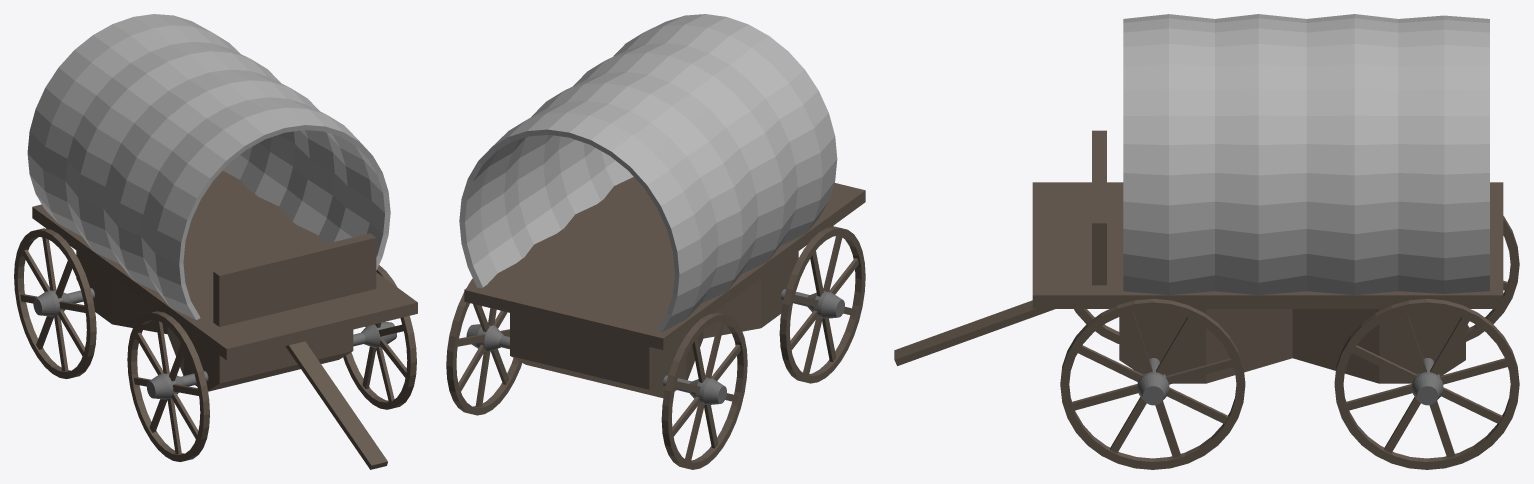
File: Wagon.fbx
The picture shows the model from 3 angles, left to right: view 1: azimuth 30°, elevation 25°; view 2: azimuth 150°, elevation 25°; view 3: azimuth 270°, elevation 25°; orthographic projection. The views are drawn at different scales.
Parts seen in each view (by area): view 1: Cylinder.004, Cube.005, Cube.006, Cube.007, Cylinder.009, Cylinder.008, Cylinder.005, Cube.008, Cylinder.007, Cylinder.010, Cylinder.006; view 2: Cylinder.004, Cube.005, Cube.007, Cylinder.008, Cylinder.009, Cylinder.012, Cylinder.007, Cylinder.010, Cylinder.011; view 3: Cylinder.004, Cube.007, Cube.005, Cylinder.012, Cylinder.005, Cube.008, Cube.006, Cylinder.009, Cylinder.006, Cylinder.011.
Part boxes in pixels (bbox=[...]): Cylinder.004: bbox=[27, 14, 390, 319]; Cube.005: bbox=[32, 170, 417, 360]; Cube.006: bbox=[213, 233, 376, 326]; Cube.007: bbox=[76, 250, 353, 391]; Cylinder.009: bbox=[14, 228, 96, 378]; Cylinder.008: bbox=[127, 311, 209, 461]; Cylinder.005: bbox=[343, 265, 416, 409]; Cube.008: bbox=[285, 341, 387, 469]; Cylinder.007: bbox=[146, 371, 208, 399]; Cylinder.010: bbox=[33, 288, 94, 316]; Cylinder.006: bbox=[353, 321, 396, 348]; Cylinder.004: bbox=[459, 14, 837, 332]; Cube.005: bbox=[464, 177, 865, 349]; Cube.007: bbox=[510, 251, 798, 397]; Cylinder.008: bbox=[779, 226, 865, 383]; Cylinder.009: bbox=[661, 313, 747, 469]; Cylinder.012: bbox=[446, 278, 522, 415]; Cylinder.007: bbox=[781, 289, 844, 318]; Cylinder.010: bbox=[663, 375, 726, 405]; Cylinder.011: bbox=[466, 324, 509, 351]; Cylinder.004: bbox=[1123, 14, 1489, 295]; Cube.007: bbox=[1119, 309, 1465, 383]; Cube.005: bbox=[1032, 182, 1503, 308]; Cylinder.012: bbox=[1334, 298, 1519, 469]; Cylinder.005: bbox=[1060, 298, 1245, 469]; Cube.008: bbox=[894, 300, 1054, 365]; Cube.006: bbox=[1092, 130, 1106, 285]; Cylinder.009: bbox=[1466, 216, 1519, 341]; Cylinder.006: bbox=[1137, 358, 1169, 405]; Cylinder.011: bbox=[1412, 358, 1443, 405].
Size of the model in its own units: 881 by 1099 by 1633.
